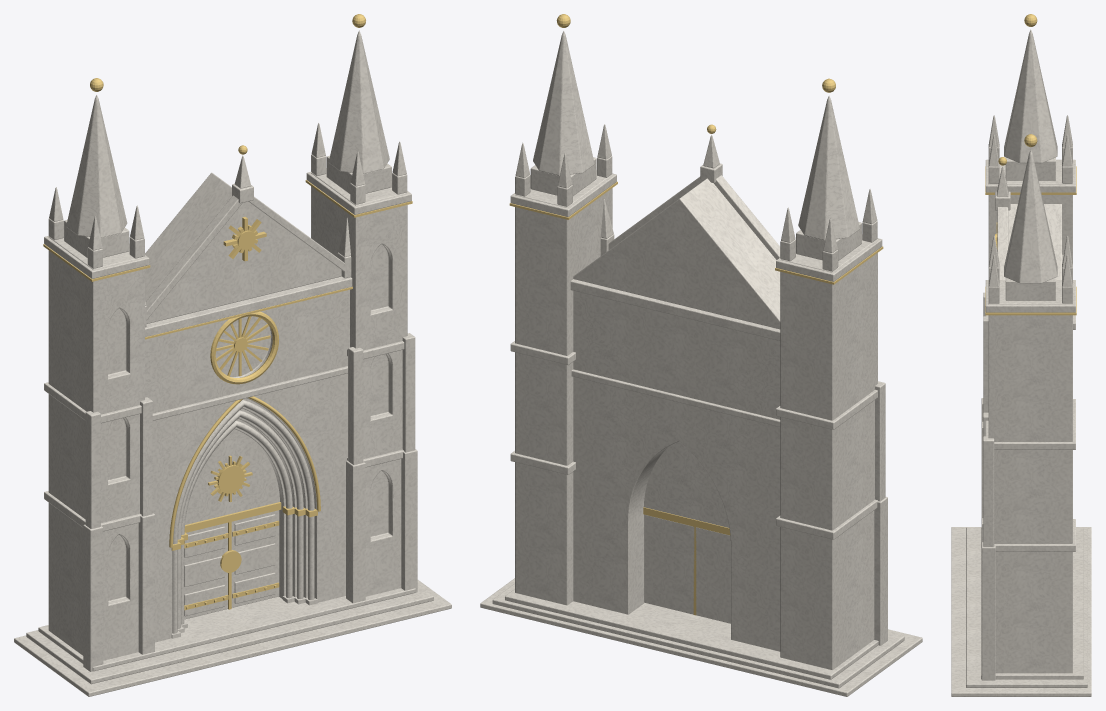
File: HolyGate.fbx
3 views of the same model, side by side, from view 1: azimuth 30°, elevation 25°; view 2: azimuth 150°, elevation 25°; view 3: azimuth 270°, elevation 25° (orthographic). The views are drawn at different scales.
Visible parts, largest first — view 1: HolyGate, HolyGate_Doors; view 2: HolyGate, HolyGate_Doors; view 3: HolyGate.
Boxes of the visible parts, left/top/right/bottom form: HolyGate: left=14, top=14, right=451, bottom=696; HolyGate_Doors: left=184, top=510, right=279, bottom=619; HolyGate: left=480, top=14, right=922, bottom=696; HolyGate_Doors: left=644, top=514, right=730, bottom=623; HolyGate: left=951, top=14, right=1091, bottom=696.
Size of the model in its own units: 25.2 by 38.12 by 9.
